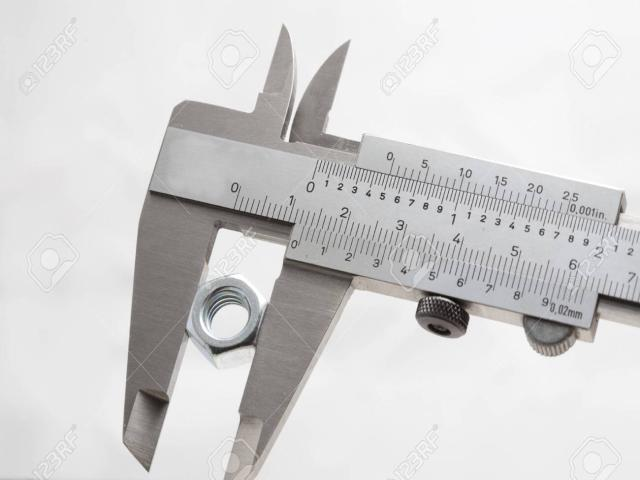Calipers: (122, 28, 638, 478)
